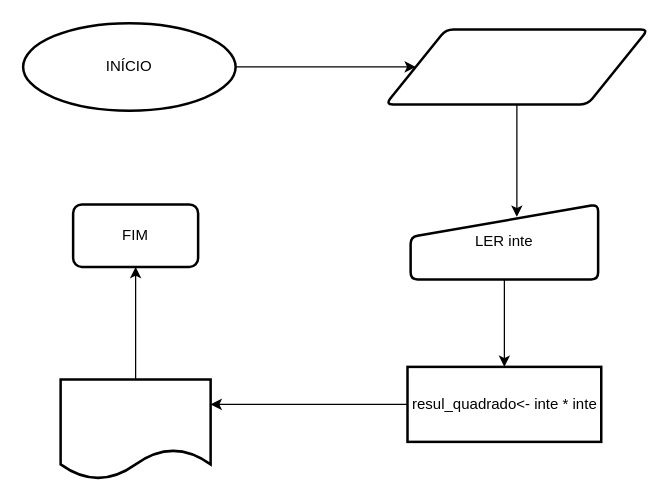
Some shapes in this 670 by 501 pixel diagram are drawn without their labels. Here are the shapes that lost their labels. From the top down, the centre of each, then its label:
At point (516, 66): "inte, resul_quadrado".
At point (135, 429): "resul_quadrado".
